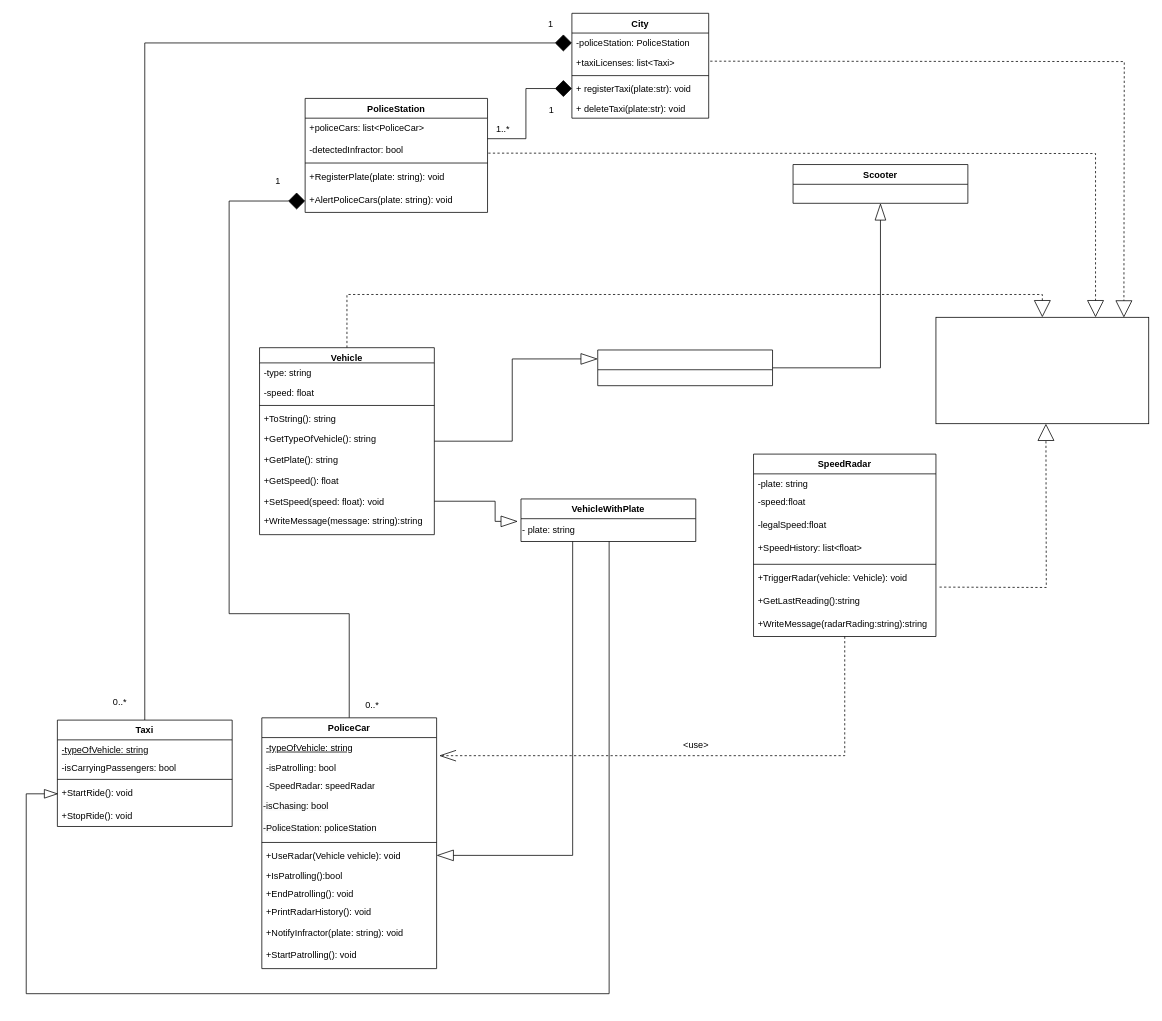
The diagram is 1162 pixels wide and 1021 high, and some of its shapes have lost their labels. Each missing label, with the centre of its shape:
<<Interface>> IMessageWriter + IMessageWriter(customMessage:sting): interface: the point at 1042,370
VehicleWithoutPlate: the point at 685,367
